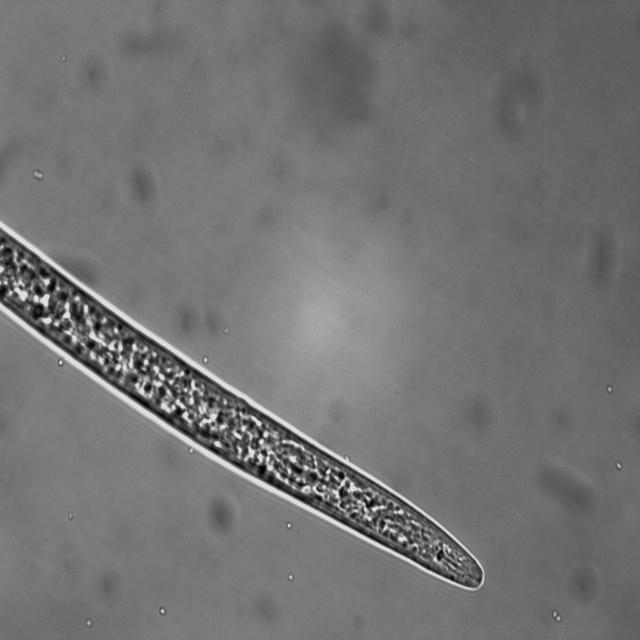Meloidogyne: (0, 186, 490, 598)
